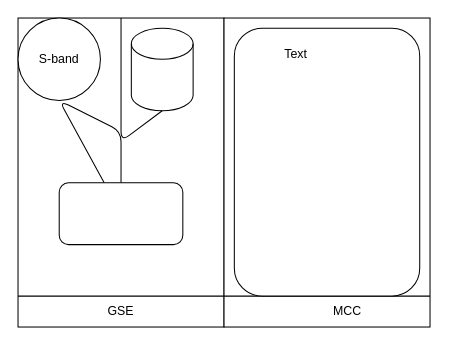
The diagram is 449 pixels wide and 345 high, and some of its shapes have lost their labels. The shapes that lost their labels are listed below. From the top down, each one's box as (x1, y1, x2, y2) in pixels, then its label:
(130, 27, 193, 111): HUF
(58, 182, 183, 245): HUF BOX
